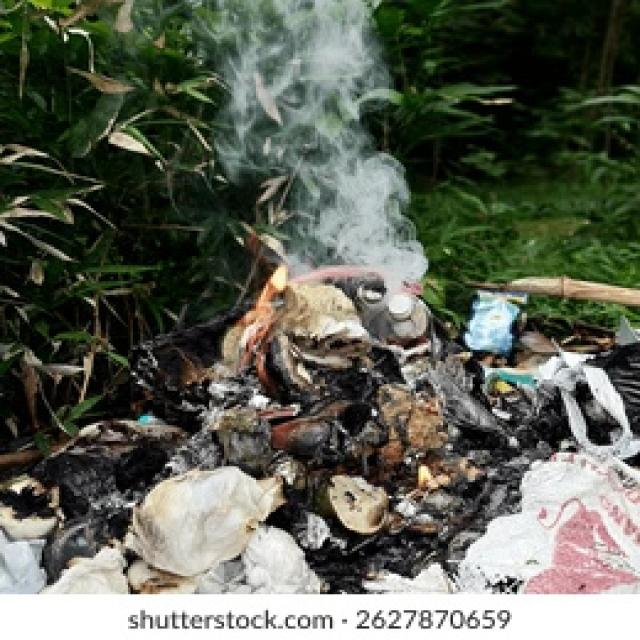fire: (237, 263, 287, 325)
